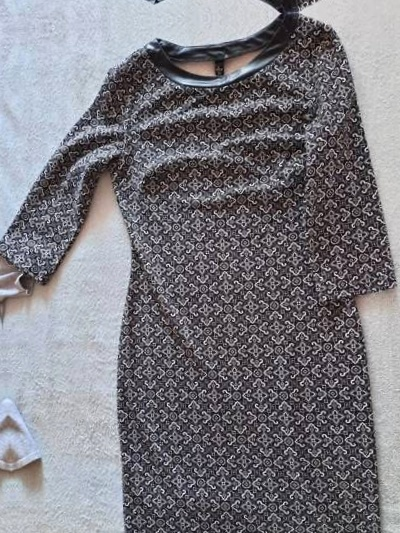Dress: (14, 19, 400, 533), (0, 0, 374, 18)
